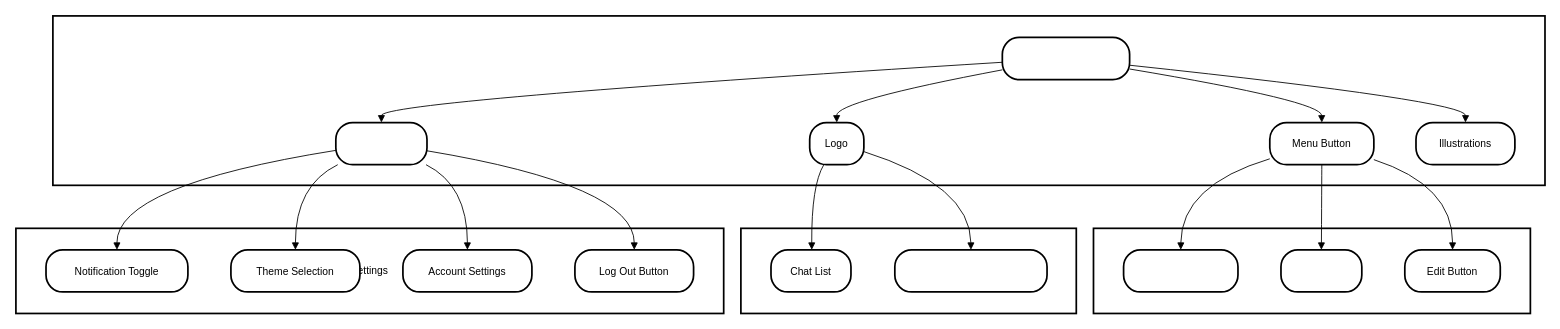
Image size: 1560x329. Some labels were removed from this diagram. Each missing label, with the box of its shape:
Home: (52, 15, 1545, 186)
New Message Button: (894, 249, 1047, 292)
Profile Picture: (1122, 249, 1238, 292)
Search Bar: (335, 121, 427, 165)
User Info: (1280, 249, 1362, 292)
Welcome Screen: (1001, 36, 1130, 80)
